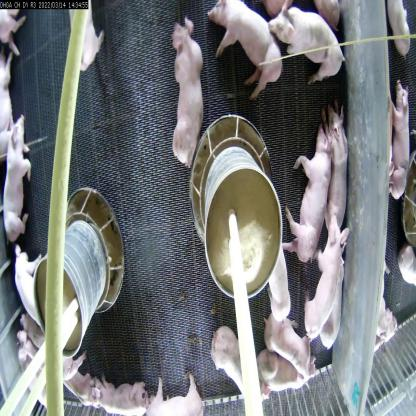Pig: (266, 0, 344, 87), (210, 1, 279, 96), (285, 132, 328, 260), (170, 15, 200, 178), (301, 220, 343, 333), (213, 326, 263, 416), (384, 84, 416, 201), (270, 304, 313, 385), (4, 122, 33, 234), (322, 109, 345, 233), (137, 373, 203, 415), (68, 8, 110, 73), (266, 232, 292, 330), (13, 250, 45, 322), (258, 351, 303, 401), (322, 255, 345, 352), (99, 375, 150, 415), (61, 362, 100, 405)
